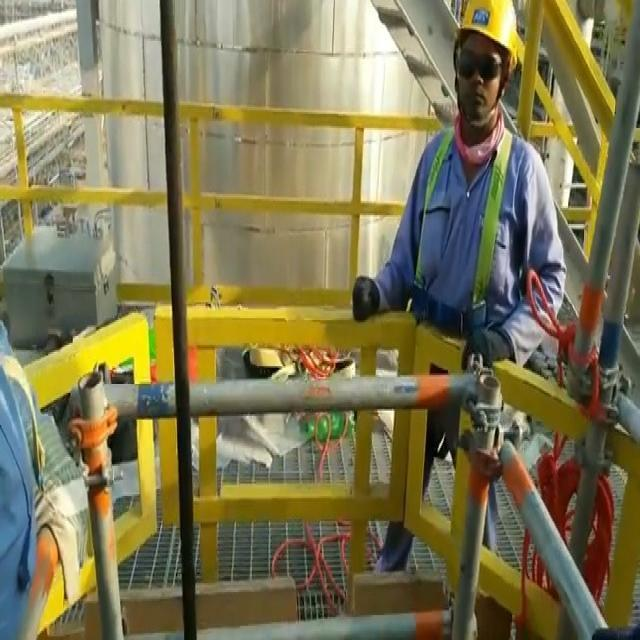No_BreathingApparatus: (452, 46, 501, 131)
Person: (383, 0, 561, 632)
